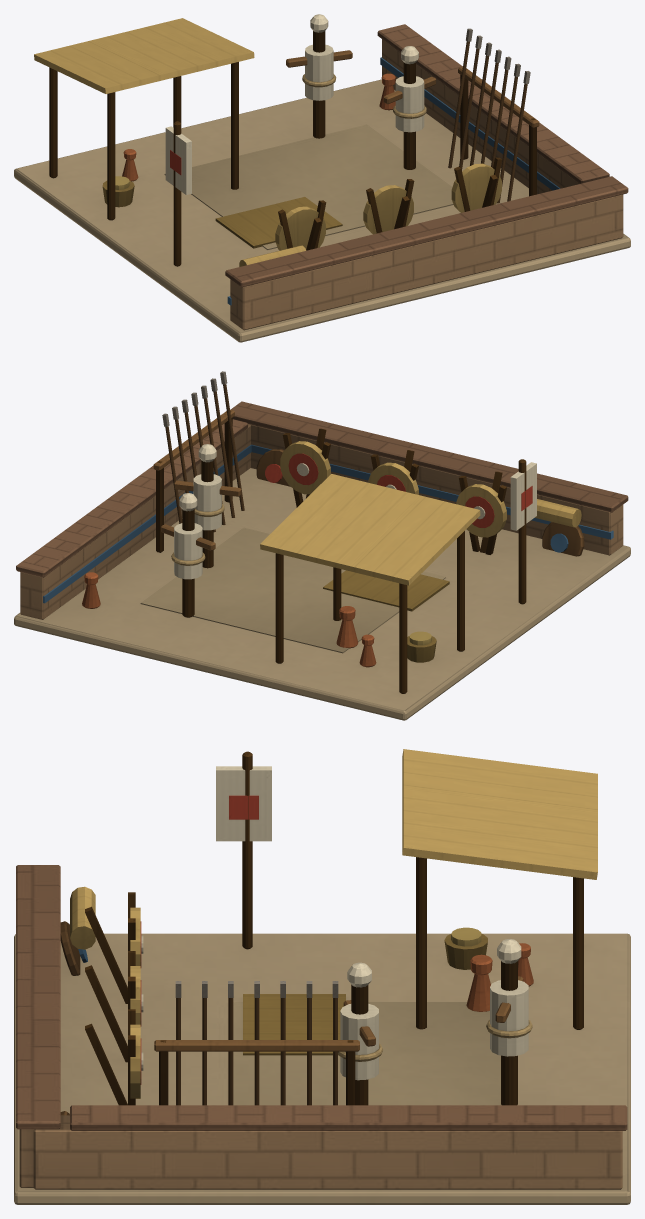
Rendered from training_grounds.glb.
The picture shows the model from 3 angles, top to bottom: view 1: azimuth 30°, elevation 25°; view 2: azimuth 150°, elevation 25°; view 3: azimuth 270°, elevation 25°; orthographic projection. The views are drawn at different scales.
Visible parts, largest first — view 1: training_grounds_earth_pack, training_grounds_mud_terra, training_grounds_sand_spit, training_grounds_thatch_mat, training_grounds_mud_dark, training_grounds_wood_dark, training_grounds_linen_pale, training_grounds_wood_mid, training_grounds_thatch_dark, training_grounds_nile_blue, training_grounds_pottery, training_grounds_clay_grey; view 2: training_grounds_earth_pack, training_grounds_thatch_mat, training_grounds_sand_spit, training_grounds_mud_dark, training_grounds_mud_terra, training_grounds_wood_dark, training_grounds_wood_mid, training_grounds_linen_pale, training_grounds_thatch_dark, training_grounds_nile_blue, training_grounds_cloth_red, training_grounds_pottery (+1 smaller); view 3: training_grounds_earth_pack, training_grounds_mud_terra, training_grounds_mud_dark, training_grounds_thatch_mat, training_grounds_sand_spit, training_grounds_wood_dark, training_grounds_linen_pale, training_grounds_wood_mid, training_grounds_thatch_dark, training_grounds_pottery, training_grounds_cloth_red, training_grounds_clay_grey (+1 smaller).
Boxes of the visible parts, x1,y1,x2,y2 form: training_grounds_earth_pack: (14,79,630,342); training_grounds_mud_terra: (230,39,623,330); training_grounds_sand_spit: (164,124,453,249); training_grounds_thatch_mat: (34,18,501,266); training_grounds_mud_dark: (225,24,628,287); training_grounds_wood_dark: (49,31,536,266); training_grounds_linen_pale: (165,14,424,194); training_grounds_wood_mid: (286,41,539,203); training_grounds_thatch_dark: (102,180,342,248); training_grounds_nile_blue: (227,57,560,305); training_grounds_pottery: (122,73,395,181); training_grounds_clay_grey: (466,28,530,83); training_grounds_earth_pack: (14,468,630,720); training_grounds_thatch_mat: (260,441,581,585); training_grounds_sand_spit: (140,527,445,653); training_grounds_mud_dark: (16,401,628,577); training_grounds_mud_terra: (20,424,623,619); training_grounds_wood_dark: (156,411,526,693); training_grounds_wood_mid: (153,384,584,556); training_grounds_linen_pale: (174,444,536,579); training_grounds_thatch_dark: (323,570,449,662); training_grounds_nile_blue: (43,444,613,603); training_grounds_cloth_red: (265,453,532,527); training_grounds_pottery: (82,572,376,667); training_grounds_earth_pack: (14,933,630,1204); training_grounds_mud_terra: (19,1115,622,1189); training_grounds_mud_dark: (16,865,627,1130); training_grounds_thatch_mat: (70,749,597,1098); training_grounds_sand_spit: (233,1002,501,1105); training_grounds_wood_dark: (85,751,583,1105); training_grounds_linen_pale: (141,766,528,1080); training_grounds_wood_mid: (60,921,523,1115); training_grounds_thatch_dark: (243,933,487,1055); training_grounds_pottery: (466,943,533,1011); training_grounds_cloth_red: (140,795,258,1084); training_grounds_clay_grey: (175,981,338,997).
Size of the model in its own units: 3.3 by 1.25 by 3.3.
Materials: 15 (13 with a texture image).
